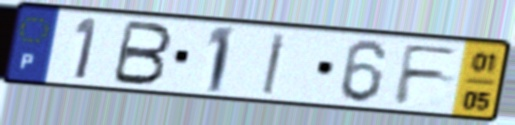1: (205, 24, 238, 95), (72, 16, 100, 83)
6: (337, 36, 390, 107)
B: (108, 18, 176, 88)
F: (391, 42, 463, 107)
I: (259, 30, 290, 97)
